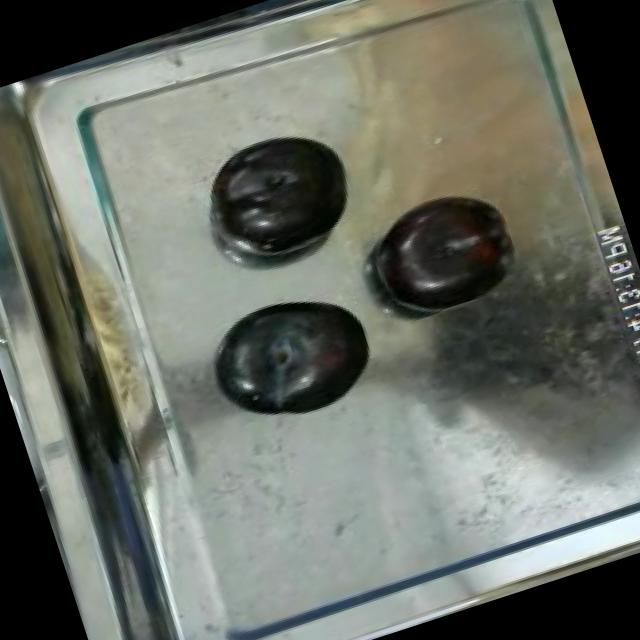Fruit: (197, 276, 388, 442), (194, 117, 366, 271), (357, 180, 529, 326)
